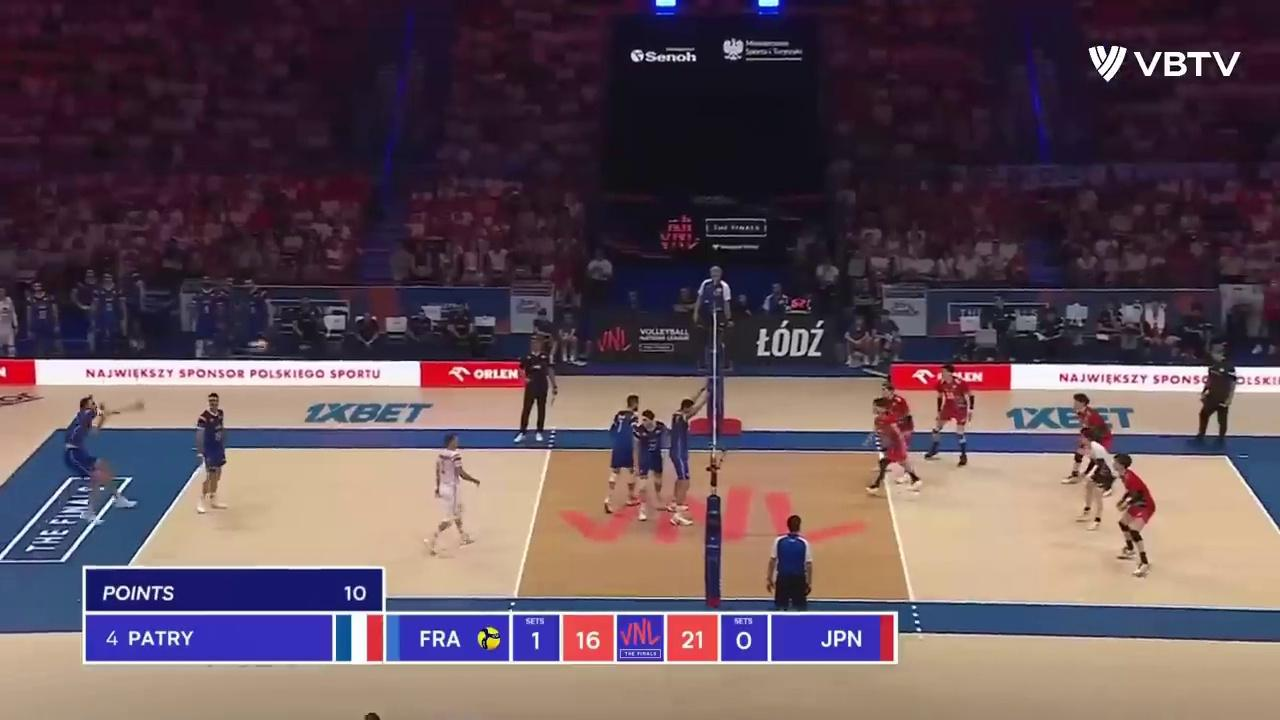ball: (249, 339, 266, 352)
